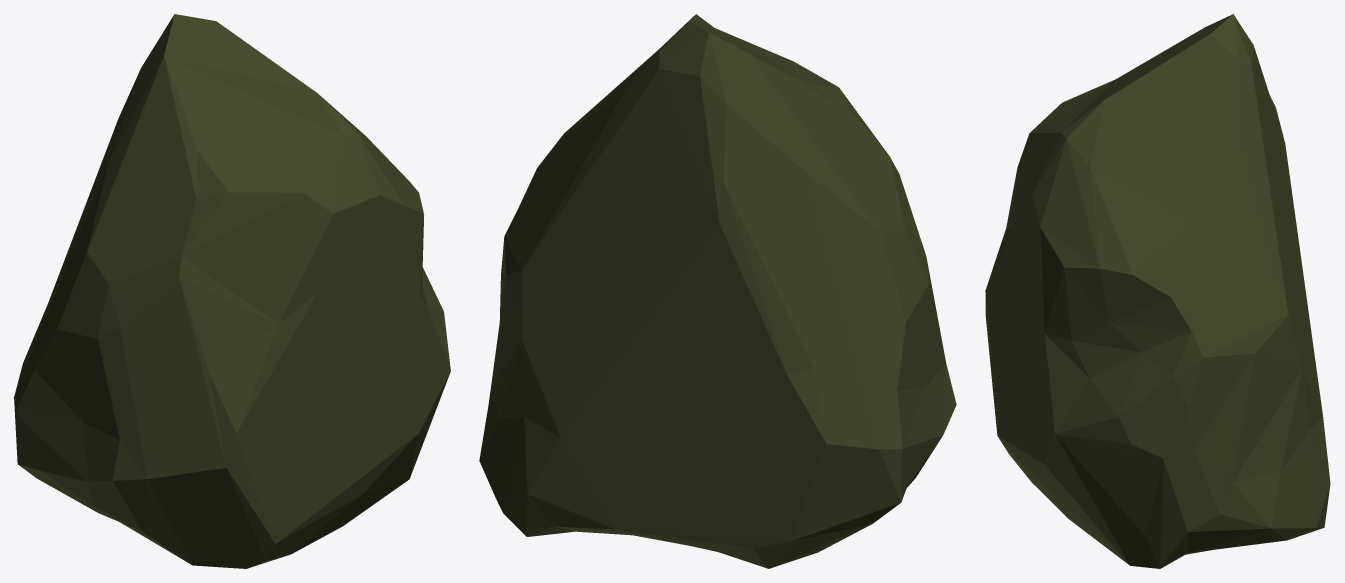
The model's file is SM_small_rock_08.fbx.
3 renders of one model, left to right at view 1: azimuth 30°, elevation 25°; view 2: azimuth 150°, elevation 25°; view 3: azimuth 270°, elevation 25°, orthographic. The views are drawn at different scales.
Parts seen in each view (by area): view 1: small_rock_08; view 2: small_rock_08; view 3: small_rock_08.
Boxes of the visible parts, left/top/right/bottom form: small_rock_08: left=14, top=14, right=450, bottom=568; small_rock_08: left=479, top=14, right=956, bottom=568; small_rock_08: left=985, top=14, right=1330, bottom=568.
Bounding box in the file's own units: 11.82 × 13.62 × 9.17.
